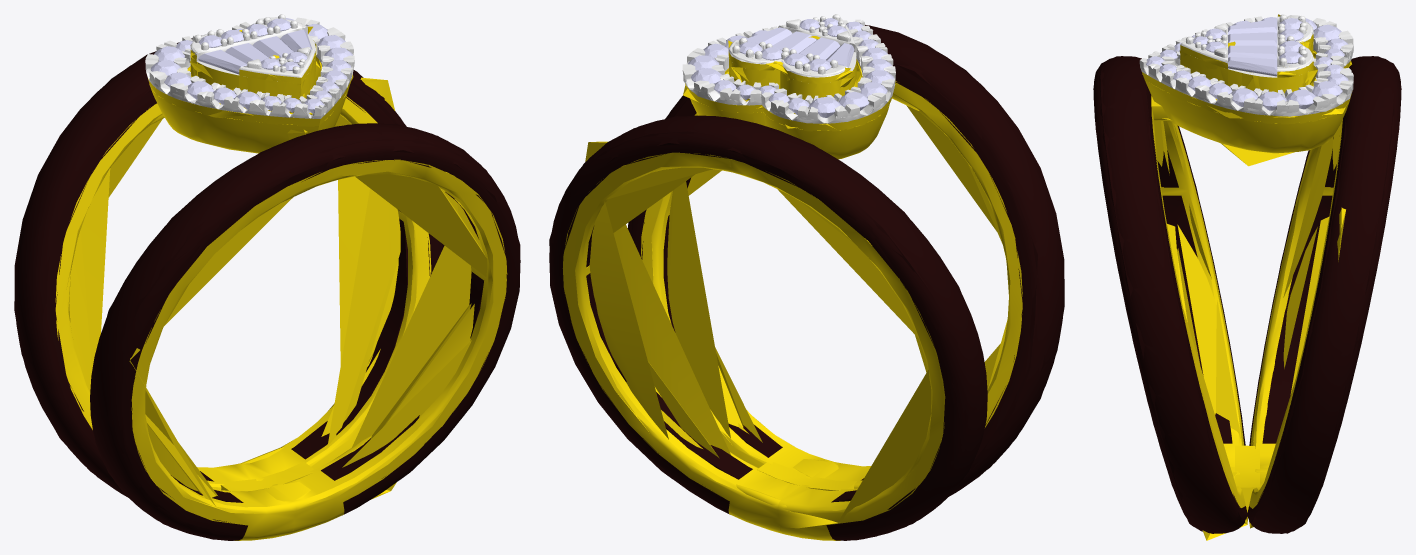
The model's file is DLR-D000677504.glb.
3 views of the same model, side by side, from view 1: azimuth 30°, elevation 25°; view 2: azimuth 150°, elevation 25°; view 3: azimuth 270°, elevation 25° (orthographic). The views are drawn at different scales.
Parts seen in each view (by area): view 1: highPolyMesh, lowPolyMesh; view 2: highPolyMesh, lowPolyMesh; view 3: highPolyMesh, lowPolyMesh.
Part boxes in pixels (<box>): highPolyMesh: <box>14,14,520,540</box>; lowPolyMesh: <box>14,14,520,539</box>; highPolyMesh: <box>549,14,1064,540</box>; lowPolyMesh: <box>549,14,1064,540</box>; highPolyMesh: <box>1093,14,1401,533</box>; lowPolyMesh: <box>1093,14,1401,540</box>.
Bounding box in the file's own units: 0.0218 × 0.0239 × 0.014.
